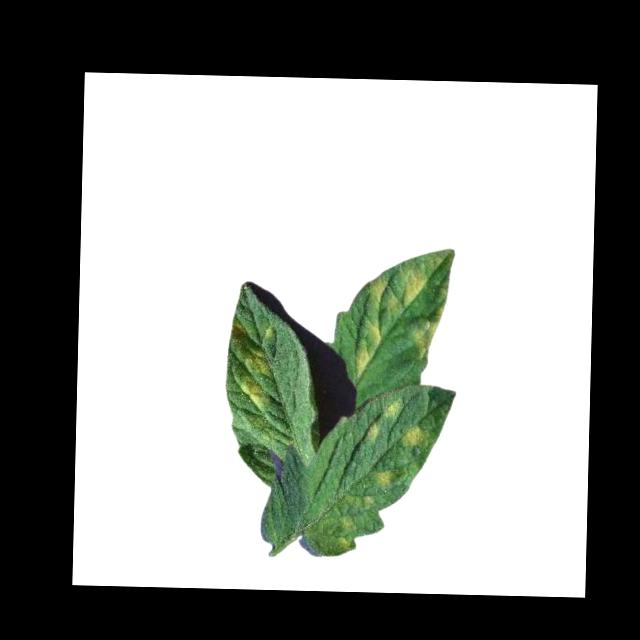Leaf_Mold: (369, 268, 426, 311), (409, 304, 447, 360), (241, 345, 272, 408), (354, 321, 381, 376), (369, 465, 396, 489), (401, 425, 420, 449), (383, 399, 403, 418), (364, 419, 377, 440)
